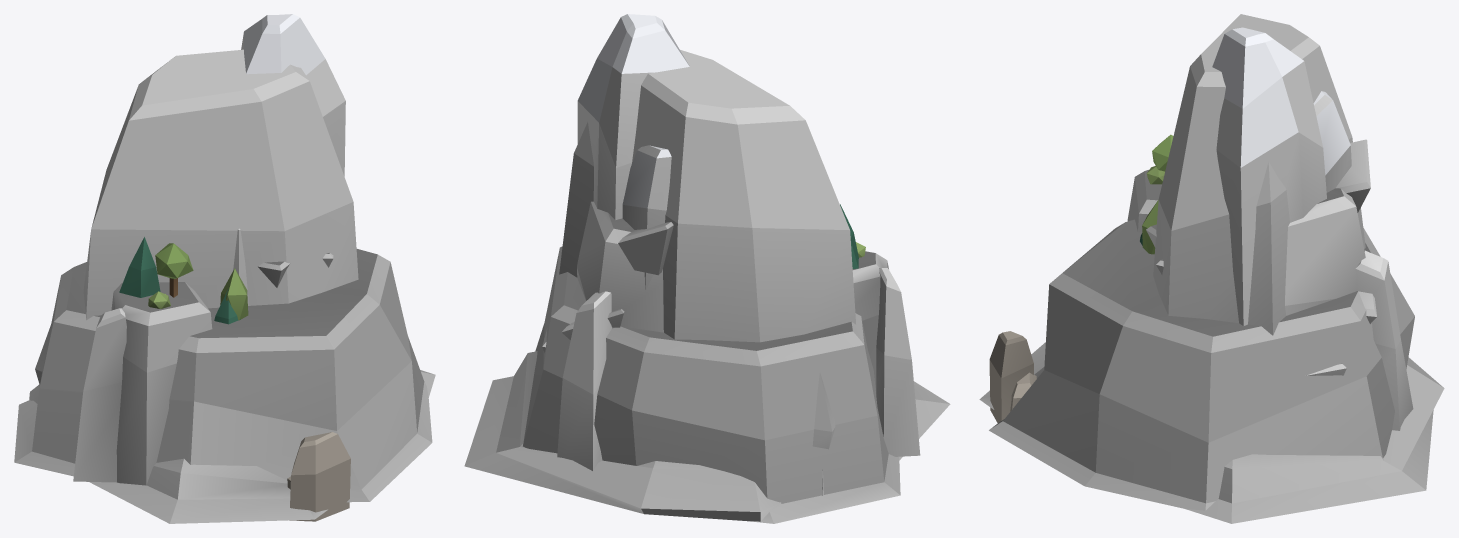
Rendered from crag-0.glb.
3 views of the same model, side by side, from view 1: azimuth 30°, elevation 25°; view 2: azimuth 150°, elevation 25°; view 3: azimuth 270°, elevation 25° (orthographic). The views are drawn at different scales.
Parts seen in each view (by area): view 1: SaddleBase, SaddleBlock, CragStep, CragBase, CragRib2, CragSummit, SaddleScree3, CragPine9, CragCrown8, SaddleShrub1, CragTier2; view 2: SaddleBlock, SaddleBase, CragBase, CragSummit, CragRib3, CragTier2, CragRib2, CragShoulder, CragStep, CragShelf9, CragTier1; view 3: SaddleBase, SaddleBlock, CragSummit, CragBase, CragTier2, CragRib3, SaddleScree3, CragShoulder, CragShelf9, CragStep.
Part boxes in pixels (x1=…): SaddleBase: x1=14, y1=249, x2=432, y2=502; SaddleBlock: x1=83, y1=49, x2=358, y2=320; CragStep: x1=111, y1=282, x2=212, y2=485; CragBase: x1=29, y1=370, x2=435, y2=523; CragRib2: x1=73, y1=308, x2=126, y2=482; CragSummit: x1=241, y1=14, x2=345, y2=176; SaddleScree3: x1=289, y1=432, x2=350, y2=521; CragPine9: x1=119, y1=237, x2=160, y2=297; CragCrown8: x1=155, y1=243, x2=193, y2=278; SaddleShrub1: x1=220, y1=268, x2=248, y2=320; CragTier2: x1=233, y1=228, x2=248, y2=305; SaddleBlock: x1=559, y1=50, x2=855, y2=342; SaddleBase: x1=523, y1=246, x2=900, y2=523; CragBase: x1=464, y1=351, x2=950, y2=521; CragSummit: x1=577, y1=14, x2=689, y2=219; CragRib3: x1=557, y1=291, x2=611, y2=470; CragTier2: x1=577, y1=201, x2=663, y2=332; CragRib2: x1=876, y1=268, x2=920, y2=456; CragShoulder: x1=622, y1=145, x2=671, y2=291; CragStep: x1=852, y1=251, x2=888, y2=393; CragShelf9: x1=618, y1=222, x2=673, y2=275; CragTier1: x1=812, y1=373, x2=835, y2=449; SaddleBase: x1=989, y1=219, x2=1414, y2=510; SaddleBlock: x1=1153, y1=14, x2=1365, y2=335; CragSummit: x1=1212, y1=27, x2=1326, y2=326; CragBase: x1=979, y1=342, x2=1444, y2=523; CragTier2: x1=1285, y1=188, x2=1365, y2=315; CragRib3: x1=1355, y1=250, x2=1413, y2=430; SaddleScree3: x1=989, y1=331, x2=1033, y2=422; CragShoulder: x1=1313, y1=91, x2=1351, y2=192; CragShelf9: x1=1335, y1=139, x2=1370, y2=212; CragStep: x1=1127, y1=170, x2=1161, y2=232.
Size of the model in its own units: 1.78 by 1.66 by 1.66.
